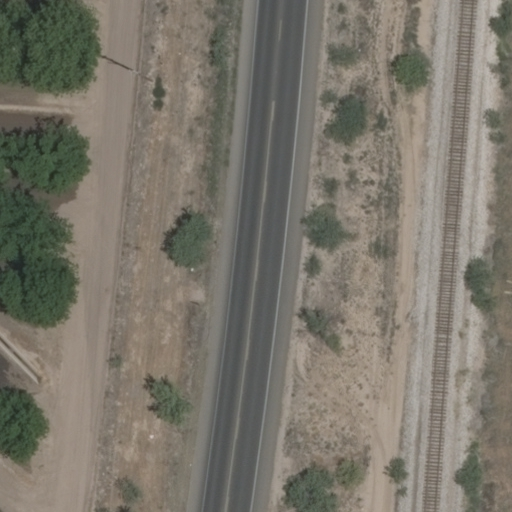DT: (123, 63, 156, 84)
